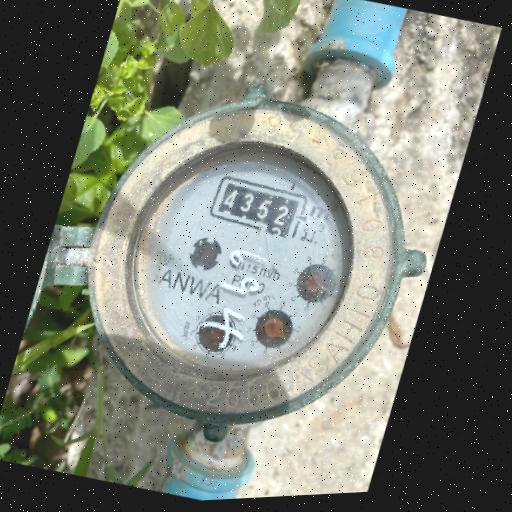2: (264, 194, 300, 240)
3: (235, 186, 263, 222)
4: (217, 181, 246, 218)
5: (251, 191, 278, 227)
border_water_meter_number: (204, 167, 312, 245)
